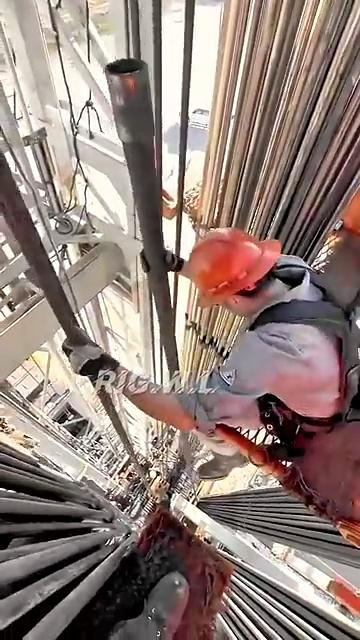gloves: (68, 335, 122, 390)
helmet: (182, 195, 287, 313)
shoes: (180, 445, 257, 510)
worker: (22, 187, 350, 585)
